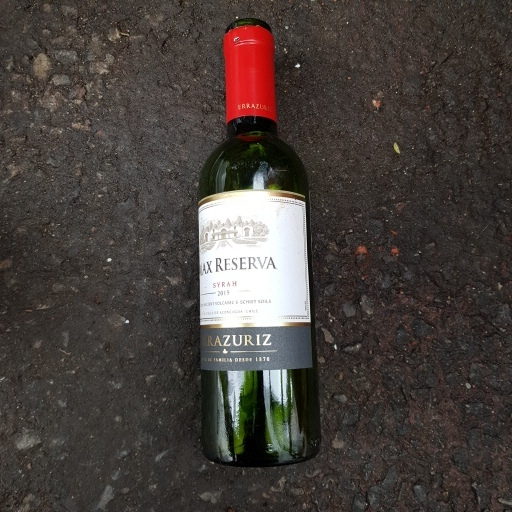Glass_2: (191, 16, 321, 467)
